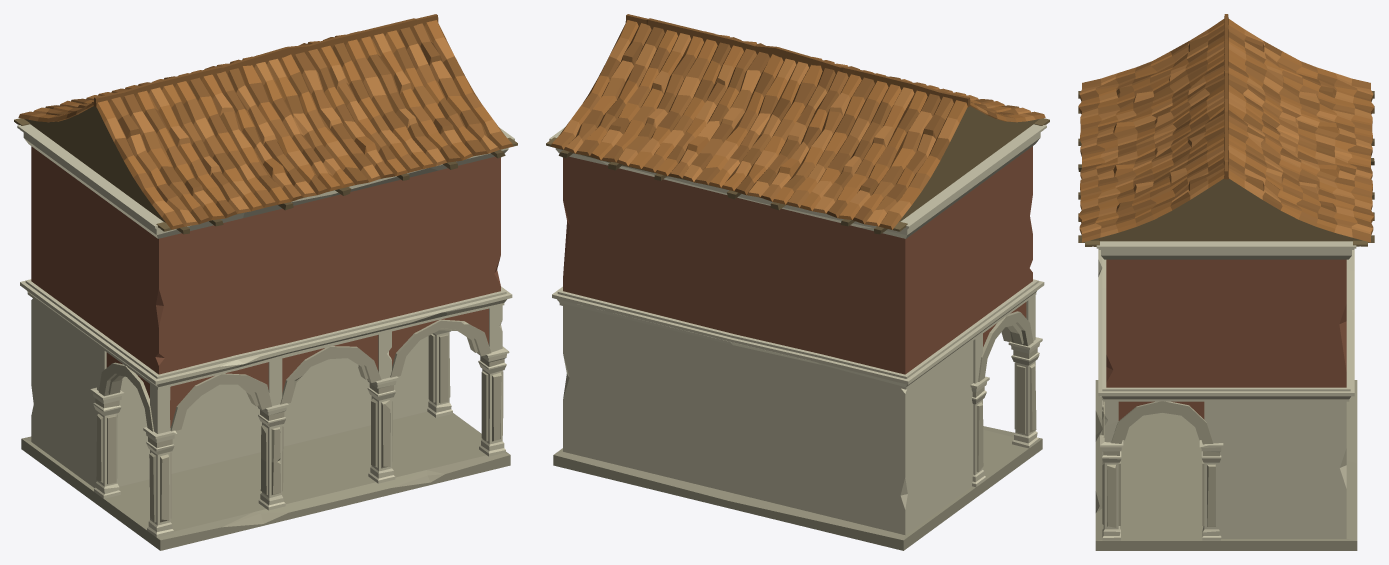
Rendered from BuildingBase_3.fbx.
3 views of the same model, side by side, from view 1: azimuth 30°, elevation 25°; view 2: azimuth 150°, elevation 25°; view 3: azimuth 270°, elevation 25° (orthographic). The views are drawn at different scales.
Parts seen in each view (by area): view 1: BuildingBase_3; view 2: BuildingBase_3; view 3: BuildingBase_3.
Part boxes in pixels (x1,y1,x2,y2): BuildingBase_3: [14, 14, 517, 550]; BuildingBase_3: [546, 14, 1049, 550]; BuildingBase_3: [1078, 14, 1374, 550].
Bounding box in the file's own units: 895 × 961 × 677.
